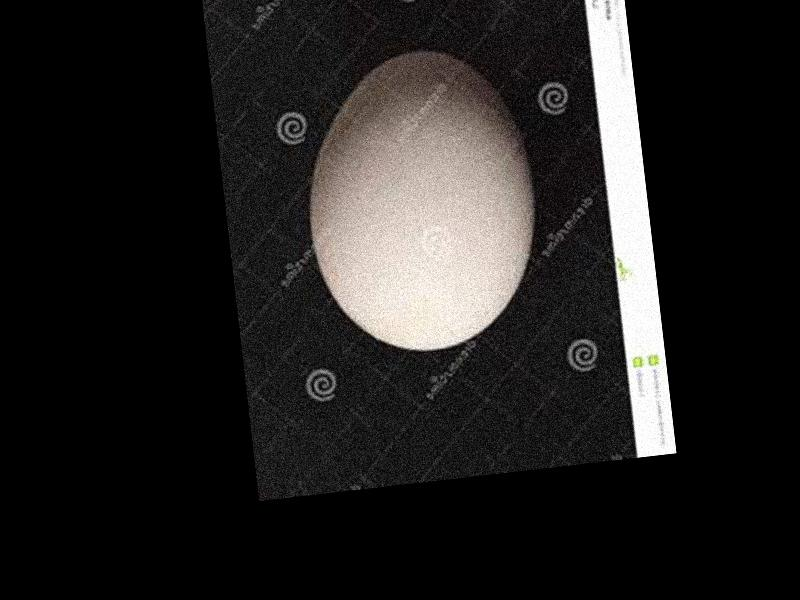Eggs: (292, 39, 549, 364)
